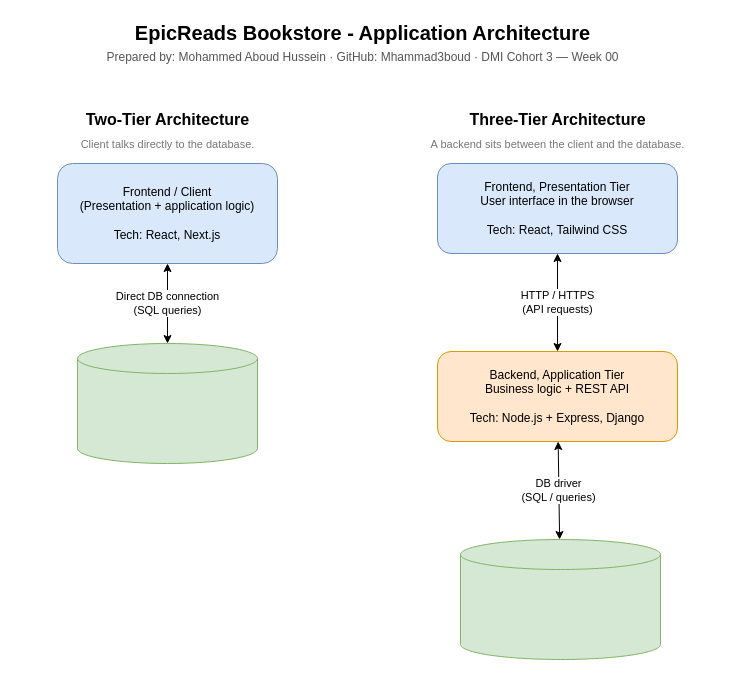
Image size: 754x677. Some labels were removed from this diagram. The centre of each missing label's shape, as x and y in pixels:
"Database (Data storage) Tech: PostgreSQL, MongoDB" belongs at (x=167, y=403).
"Database — Data Tier Persistent storage Tech: PostgreSQL, MongoDB" belongs at (x=560, y=599).
